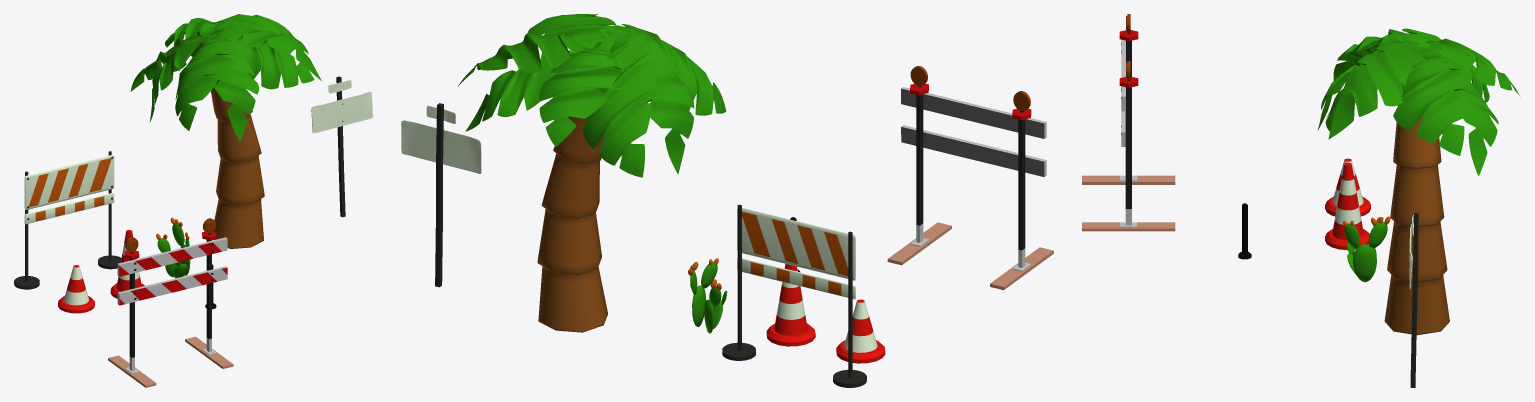
The model's file is engel.FBX.
3 views of the same model, side by side, from view 1: azimuth 30°, elevation 25°; view 2: azimuth 150°, elevation 25°; view 3: azimuth 270°, elevation 25° (orthographic). The views are drawn at different scales.
Parts seen in each view (by area): view 1: Leaf.001, pCylinder006, engel, Box001, Traffic_cones_2, Kaktus, Traffic_cones_1; view 2: Leaf.001, pCylinder006, engel, Box001, Traffic_cones_1, Kaktus, Traffic_cones_2; view 3: Leaf.001, pCylinder006, Traffic_cones_1, Kaktus, Box001, Traffic_cones_2, Traffic_cones_3.
Boxes of the visible parts, bbox=[...] form: Leaf.001: bbox=[130, 14, 321, 248]; pCylinder006: bbox=[108, 218, 233, 387]; engel: bbox=[14, 151, 121, 289]; Box001: bbox=[311, 76, 372, 217]; Traffic_cones_2: bbox=[58, 265, 94, 313]; Kaktus: bbox=[156, 217, 190, 278]; Traffic_cones_1: bbox=[110, 230, 144, 298]; Leaf.001: bbox=[458, 14, 726, 332]; pCylinder006: bbox=[887, 66, 1053, 290]; engel: bbox=[722, 204, 866, 387]; Box001: bbox=[401, 103, 481, 287]; Traffic_cones_1: bbox=[766, 264, 815, 346]; Kaktus: bbox=[688, 258, 727, 333]; Traffic_cones_2: bbox=[836, 299, 885, 363]; Leaf.001: bbox=[1317, 28, 1519, 335]; pCylinder006: bbox=[1082, 14, 1175, 231]; Traffic_cones_1: bbox=[1325, 162, 1369, 250]; Kaktus: bbox=[1343, 216, 1390, 282]; Box001: bbox=[1409, 213, 1418, 387]; Traffic_cones_2: bbox=[1325, 158, 1370, 216]; Traffic_cones_3: bbox=[1238, 203, 1251, 259].
Size of the model in its own units: 63.65 by 52.86 by 36.66.
